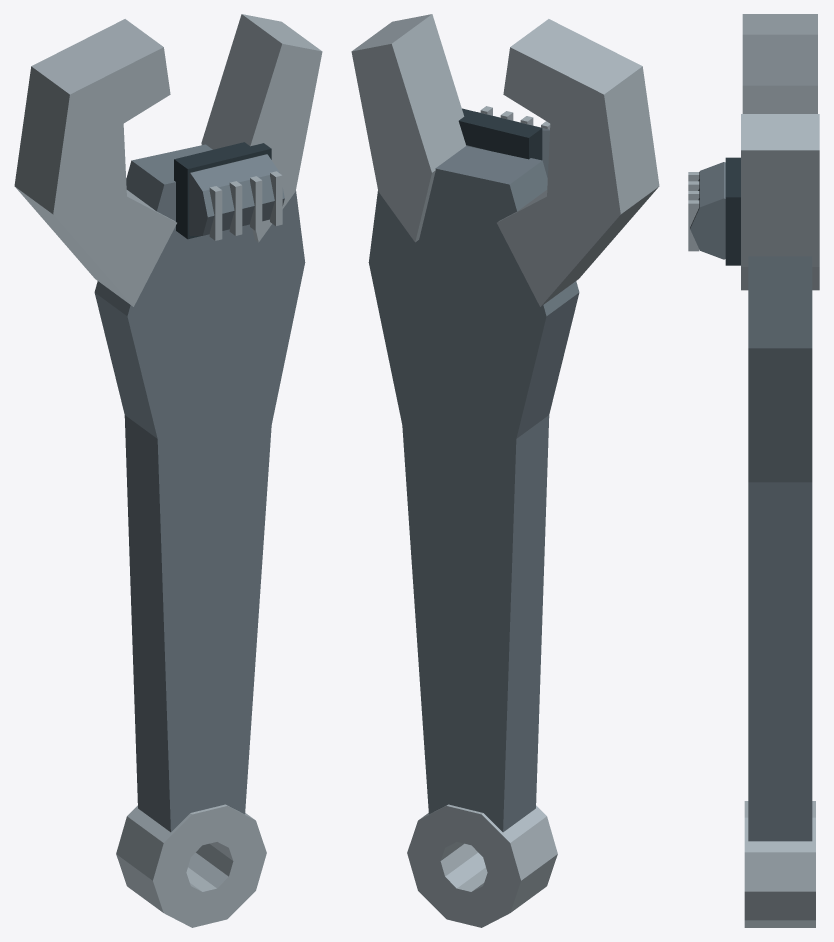
File: b06_adjustable_wrench.glb
The picture shows the model from 3 angles, left to right: view 1: azimuth 30°, elevation 25°; view 2: azimuth 150°, elevation 25°; view 3: azimuth 270°, elevation 25°; orthographic projection. The views are drawn at different scales.
Visible parts, largest first — view 1: b06_adjustable_wrench; view 2: b06_adjustable_wrench; view 3: b06_adjustable_wrench.
Part boxes in pixels (x1=…): b06_adjustable_wrench: x1=14, y1=14, x2=322, y2=927; b06_adjustable_wrench: x1=351, y1=14, x2=659, y2=927; b06_adjustable_wrench: x1=688, y1=14, x2=819, y2=927.
Bounding box in the file's own units: 0.08 × 0.2532 × 0.035.
